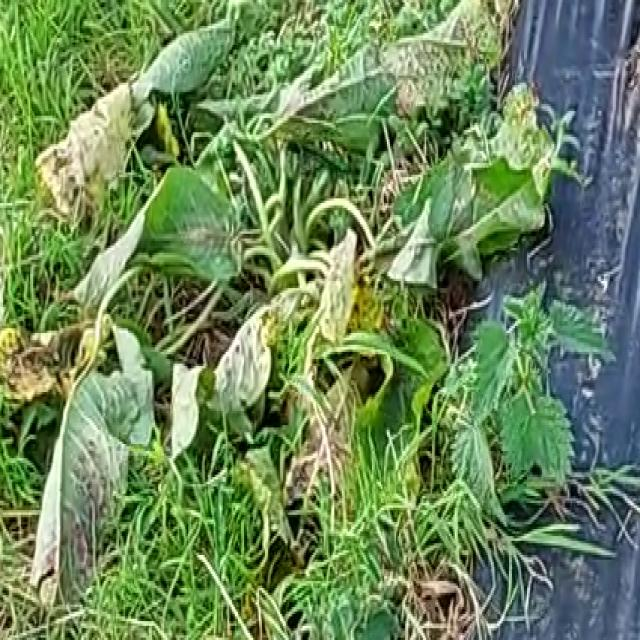organic waste: (26, 17, 575, 588)
